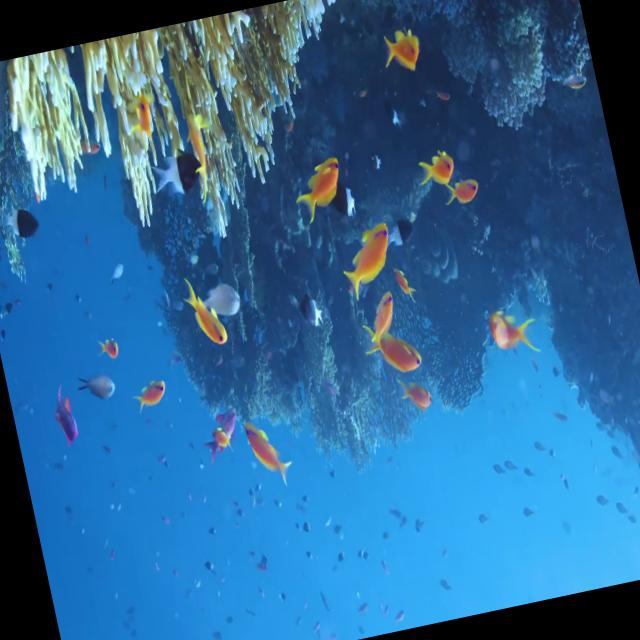fish: (336, 222, 402, 302), (362, 315, 424, 380), (292, 154, 349, 224), (244, 416, 294, 489), (182, 280, 230, 352), (152, 146, 205, 200), (358, 292, 403, 352), (485, 310, 542, 355), (381, 24, 425, 77), (48, 382, 82, 446), (72, 362, 120, 407), (195, 279, 244, 320), (415, 146, 457, 191), (442, 176, 484, 208), (132, 376, 170, 409), (296, 292, 326, 332)
